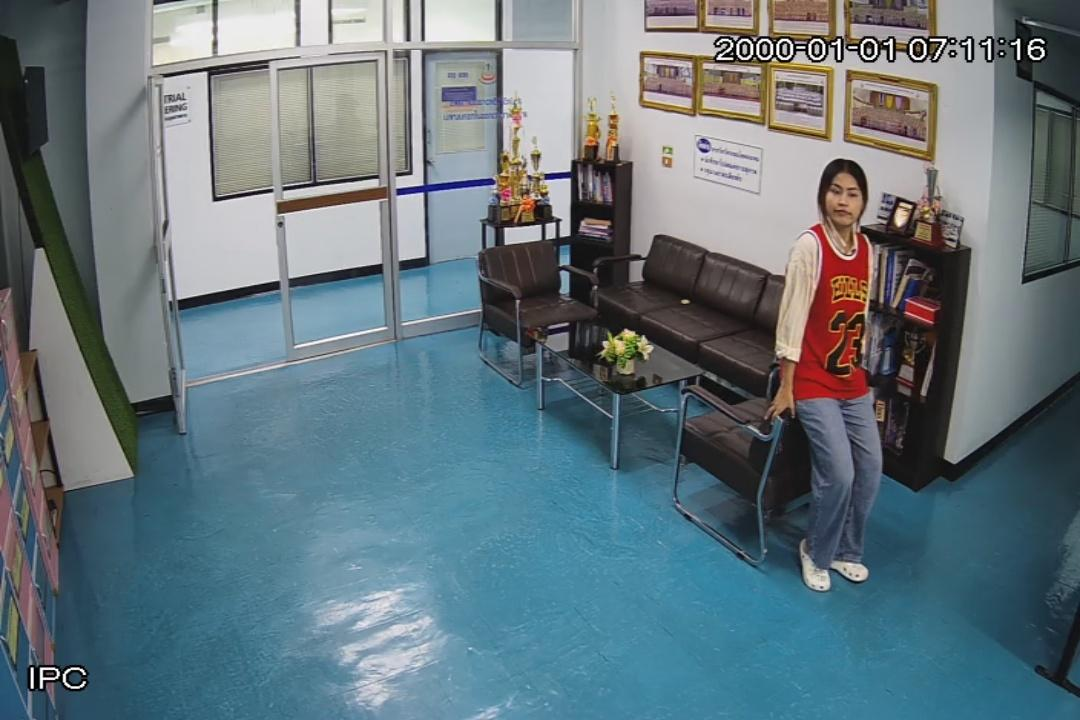normal: (764, 156, 886, 600)
